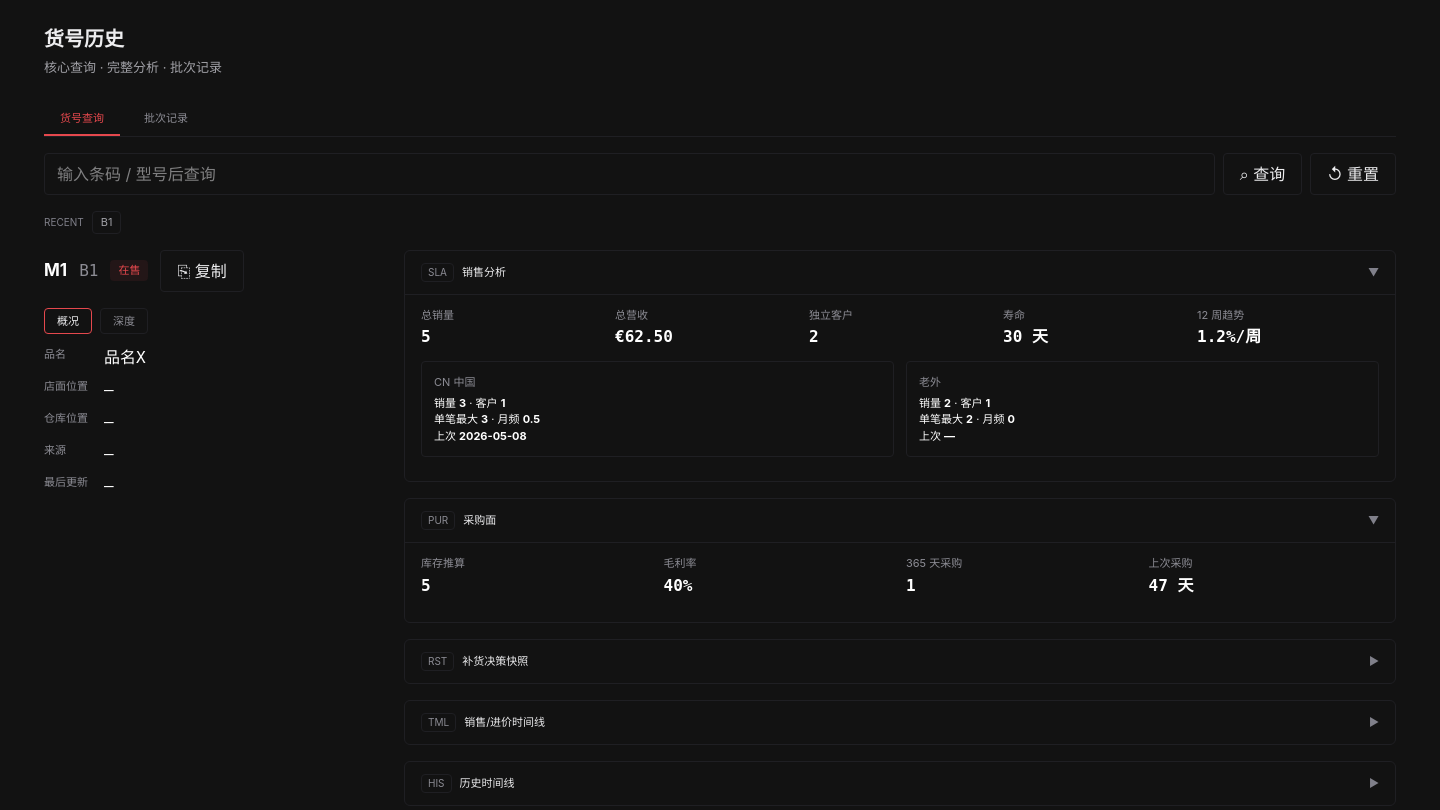
P3: HC-P3-3 走势图失败 → TML 卡打开后显错误条；P1 hero/概况 + SLA + extras 仍在
Open TML card to see the error
Click the button with id "sbcard-tml" at (439, 722), box [405,700,1395,744]
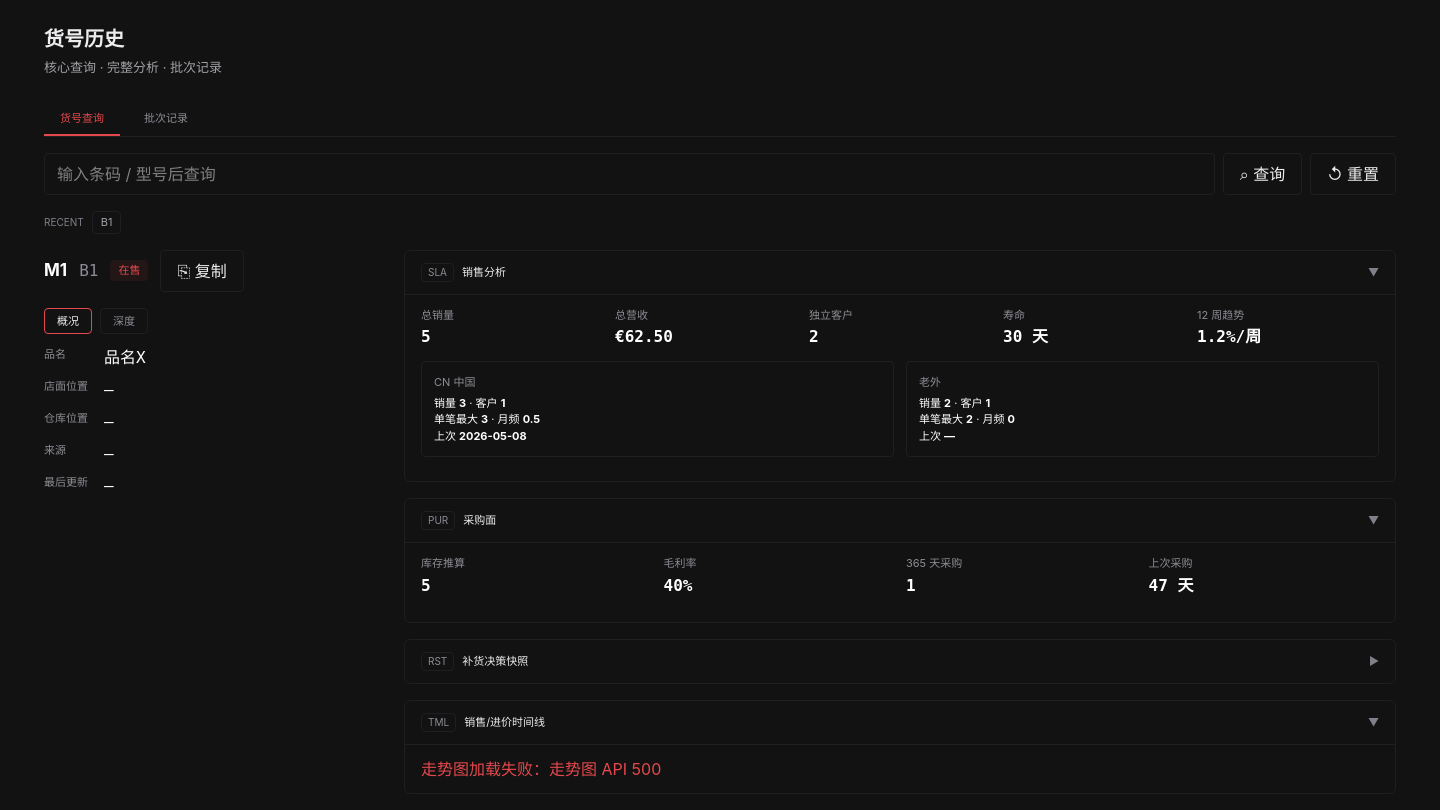
expect the text "M1" is shown: met, box [44,258,67,283]
expect the element with id "sbpanel-tml" shows "走势图 API 500": met, box [421,758,661,778]
